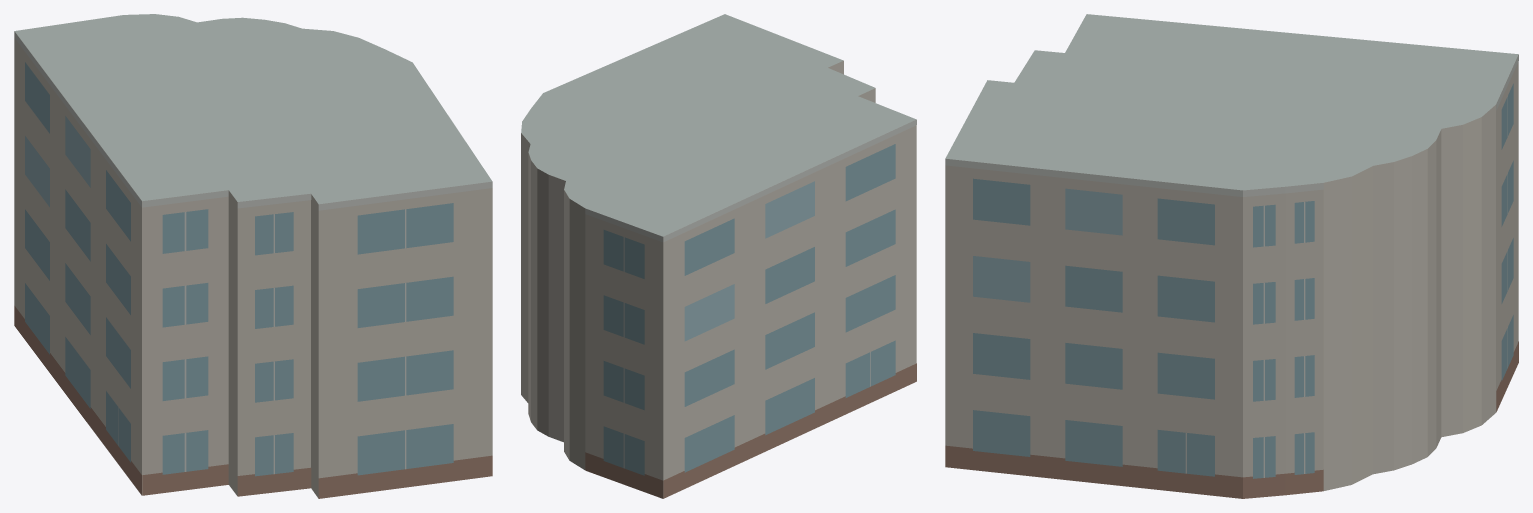
Rendered from survey-upis-32649129.glb.
3 views of the same model, side by side, from view 1: azimuth 30°, elevation 25°; view 2: azimuth 150°, elevation 25°; view 3: azimuth 270°, elevation 25° (orthographic). The views are drawn at different scales.
Visible parts, largest first — view 1: survey-upis-32649129.tmp; view 2: survey-upis-32649129.tmp; view 3: survey-upis-32649129.tmp.
Part boxes in pixels (bbox=[...]): survey-upis-32649129.tmp: bbox=[14, 14, 492, 498]; survey-upis-32649129.tmp: bbox=[521, 14, 916, 498]; survey-upis-32649129.tmp: bbox=[945, 14, 1518, 498].
Size of the model in its own units: 13.75 by 11.2 by 18.88.
